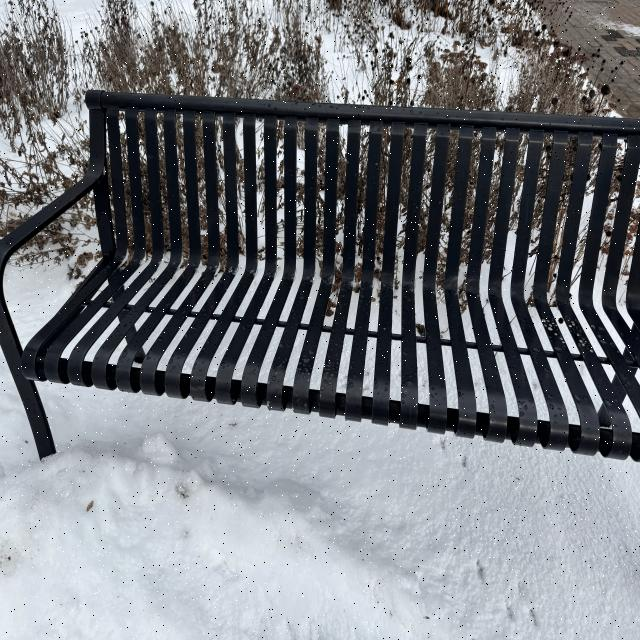Bench: (0, 86, 637, 487)
